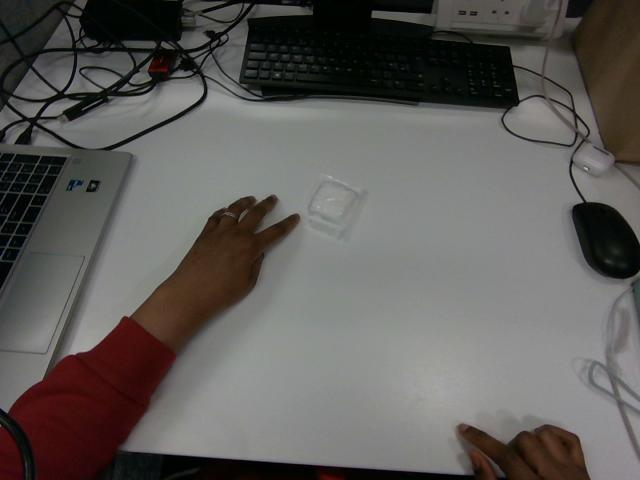gauze: (305, 175, 364, 238)
